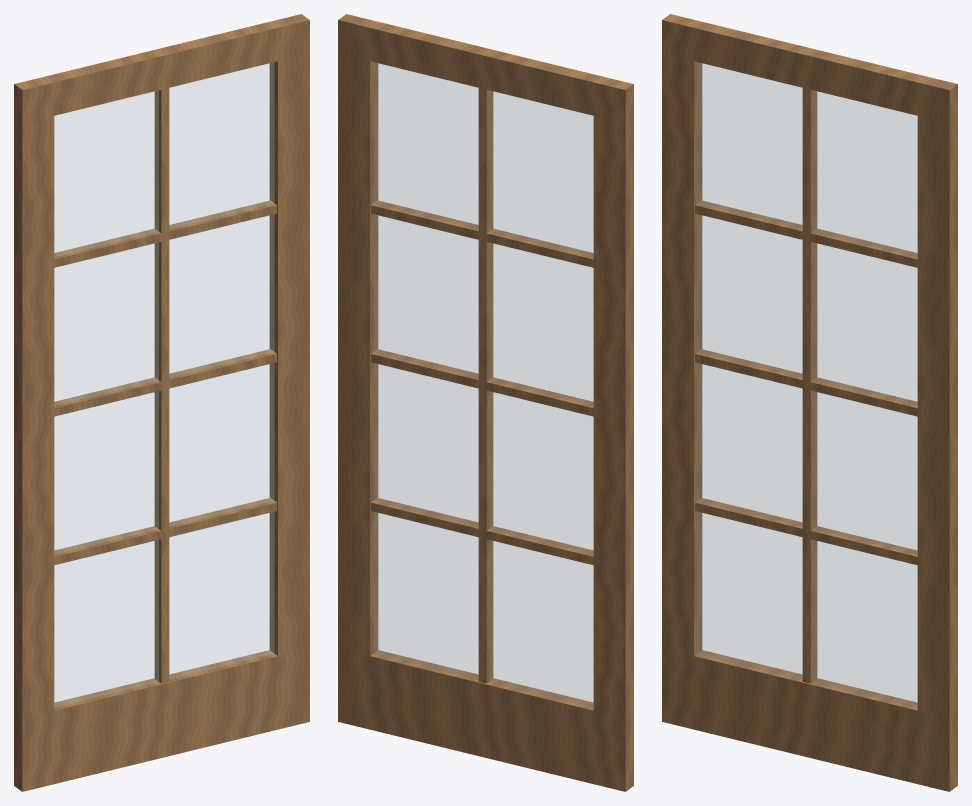
The model's file is mlo_door_french_oak.glb.
3 views of the same model, side by side, from view 1: azimuth 30°, elevation 25°; view 2: azimuth 150°, elevation 25°; view 3: azimuth 330°, elevation 25° (orthographic).
Visible parts, largest first — view 1: Door_French_Oak; view 2: Door_French_Oak; view 3: Door_French_Oak.
Part boxes in pixels (x1,y1,x2,y2): Door_French_Oak: (14,14,309,791); Door_French_Oak: (338,14,633,791); Door_French_Oak: (662,14,957,791).
Bounding box in the file's own units: 0.9 × 2.1 × 0.045.
Materials: 2 (1 with a texture image).
